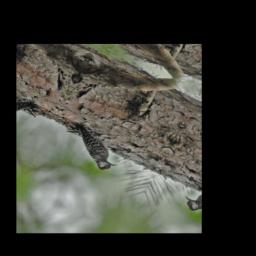Woodpecker: (58, 120, 131, 176)
